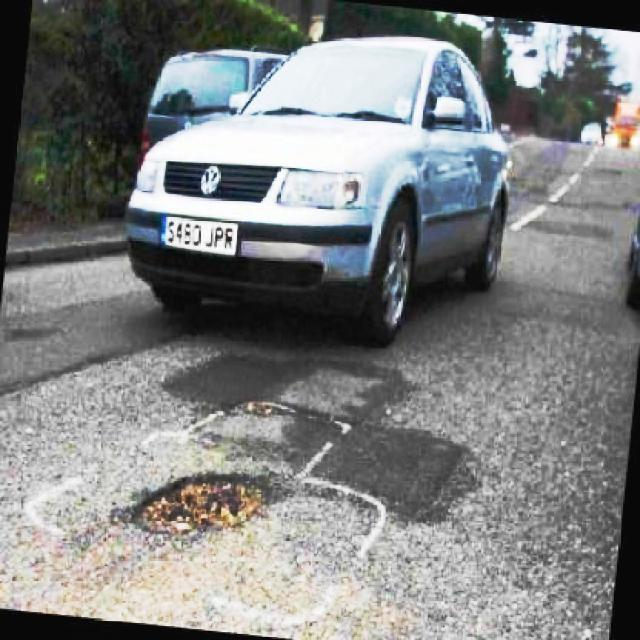pothole: (129, 469, 274, 538)
